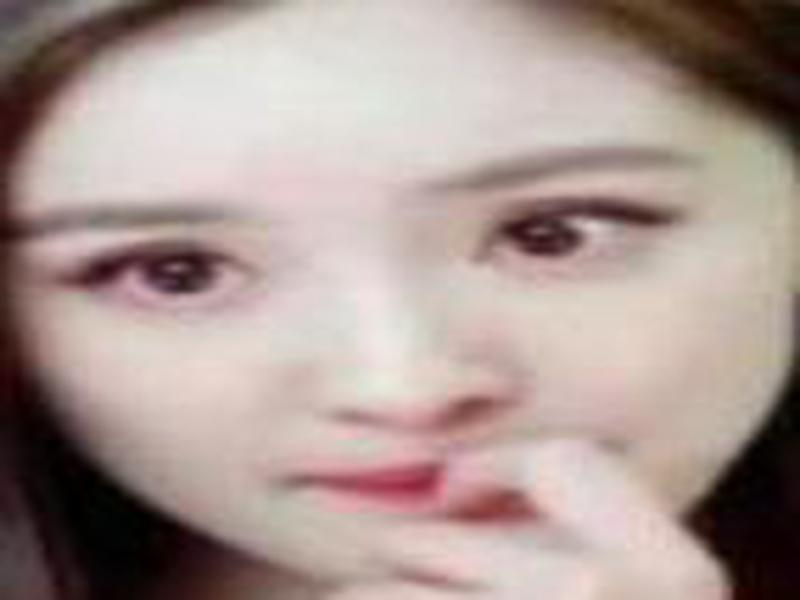without_mask: (29, 25, 770, 589)
